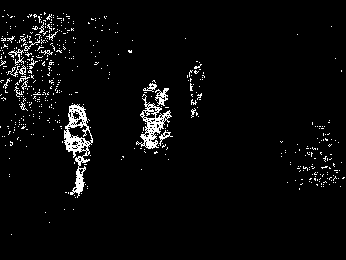person: (60, 104, 94, 198), (185, 61, 205, 120)
